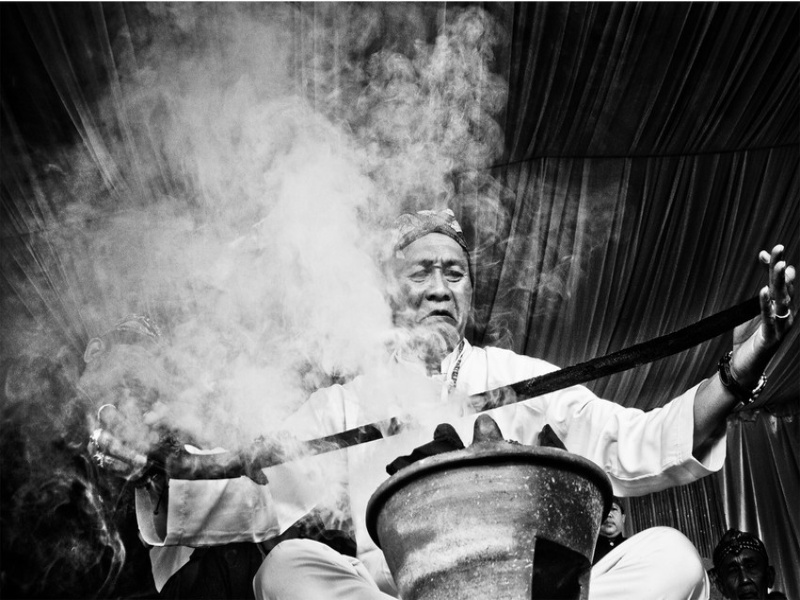smoke: (135, 30, 388, 364)
